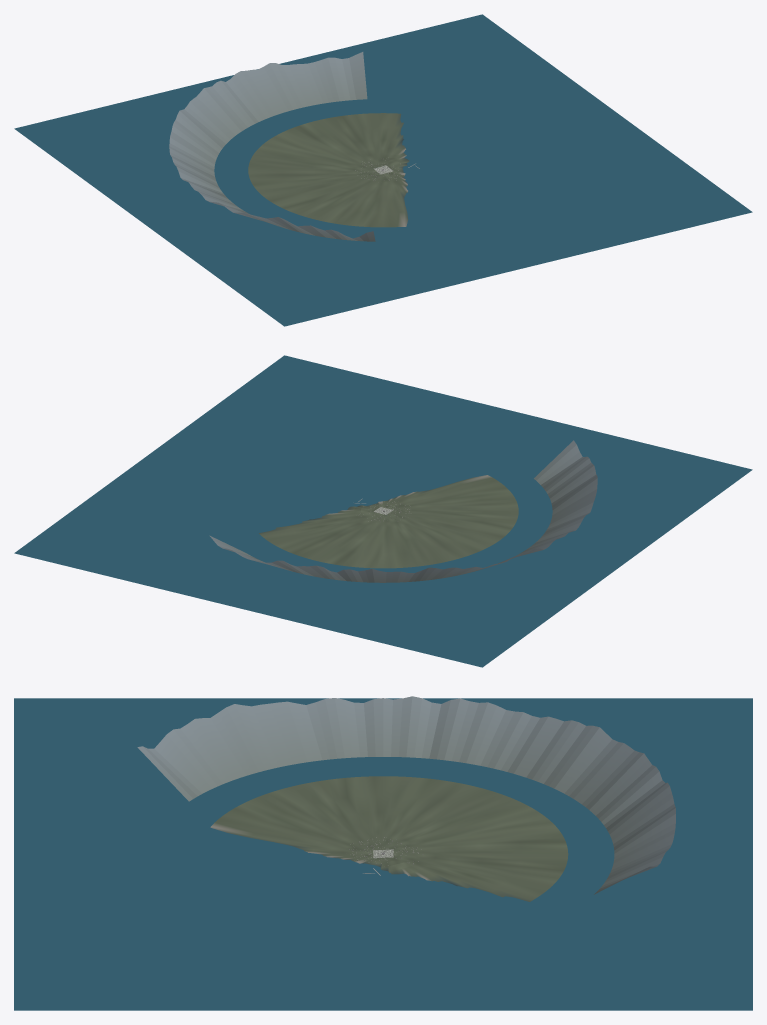
3 renders of one model, top to bottom at view 1: azimuth 30°, elevation 25°; view 2: azimuth 150°, elevation 25°; view 3: azimuth 270°, elevation 25°, orthographic. The views are drawn at different scales.
Visible parts, largest first — view 1: Sea, Far; view 2: Sea, Far; view 3: Sea, Far.
Boxes of the visible parts, x1,y1,x2,y2 form: Sea: [14, 14, 752, 326]; Far: [169, 52, 419, 241]; Sea: [14, 355, 752, 667]; Far: [209, 440, 597, 582]; Sea: [14, 698, 752, 1010]; Far: [137, 696, 675, 901].
Size of the model in its own units: 24000 by 1625 by 24000.
